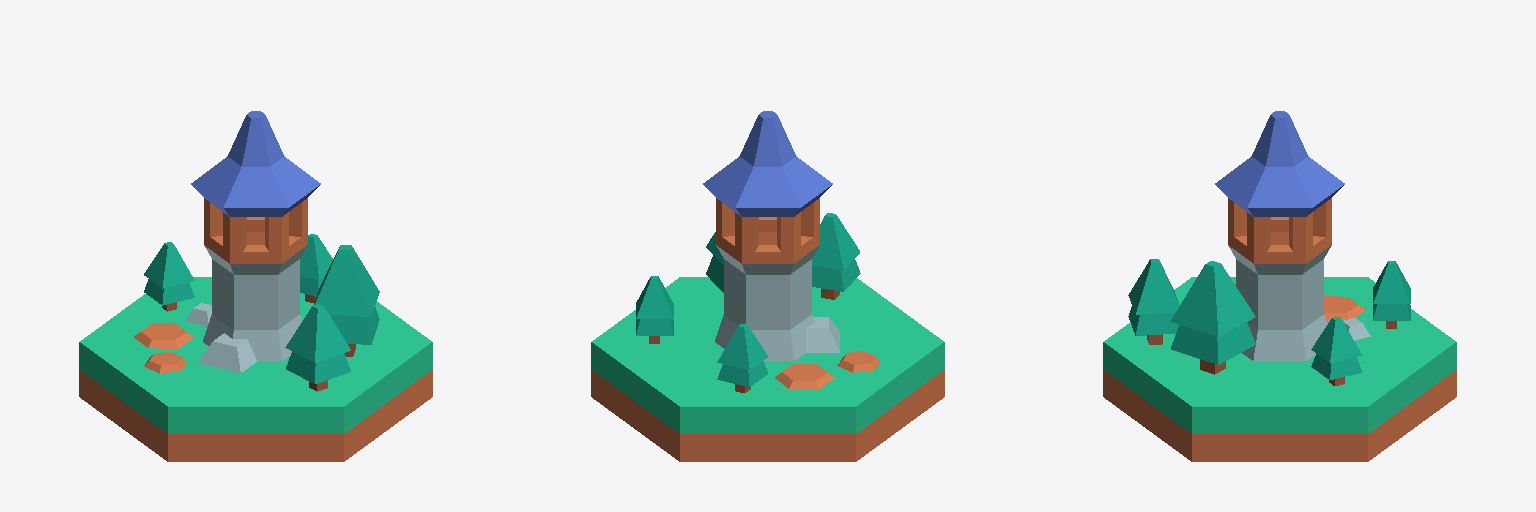
The model's file is building_tower.obj.
3 renders of one model, left to right at view 1: azimuth 30°, elevation 25°; view 2: azimuth 150°, elevation 25°; view 3: azimuth 270°, elevation 25°, orthographic.
Visible parts, largest first — view 1: building_tower, tower, tree, rock, path; view 2: building_tower, tower, tree, path, rock; view 3: building_tower, tower, tree, path.
Boxes of the visible parts, x1=… form: building_tower: x1=79, y1=277, x2=432, y2=461; tower: x1=191, y1=111, x2=320, y2=360; tree: x1=144, y1=234, x2=379, y2=391; rock: x1=186, y1=303, x2=256, y2=372; path: x1=134, y1=323, x2=193, y2=373; building_tower: x1=591, y1=277, x2=944, y2=461; tower: x1=703, y1=111, x2=832, y2=360; tree: x1=636, y1=213, x2=860, y2=392; path: x1=775, y1=351, x2=880, y2=388; rock: x1=806, y1=317, x2=839, y2=352; building_tower: x1=1103, y1=277, x2=1456, y2=461; tower: x1=1215, y1=111, x2=1344, y2=360; tree: x1=1128, y1=259, x2=1410, y2=385; path: x1=1324, y1=296, x2=1365, y2=321.
Bounding box in the file's own units: 1 × 1.02 × 1.15.